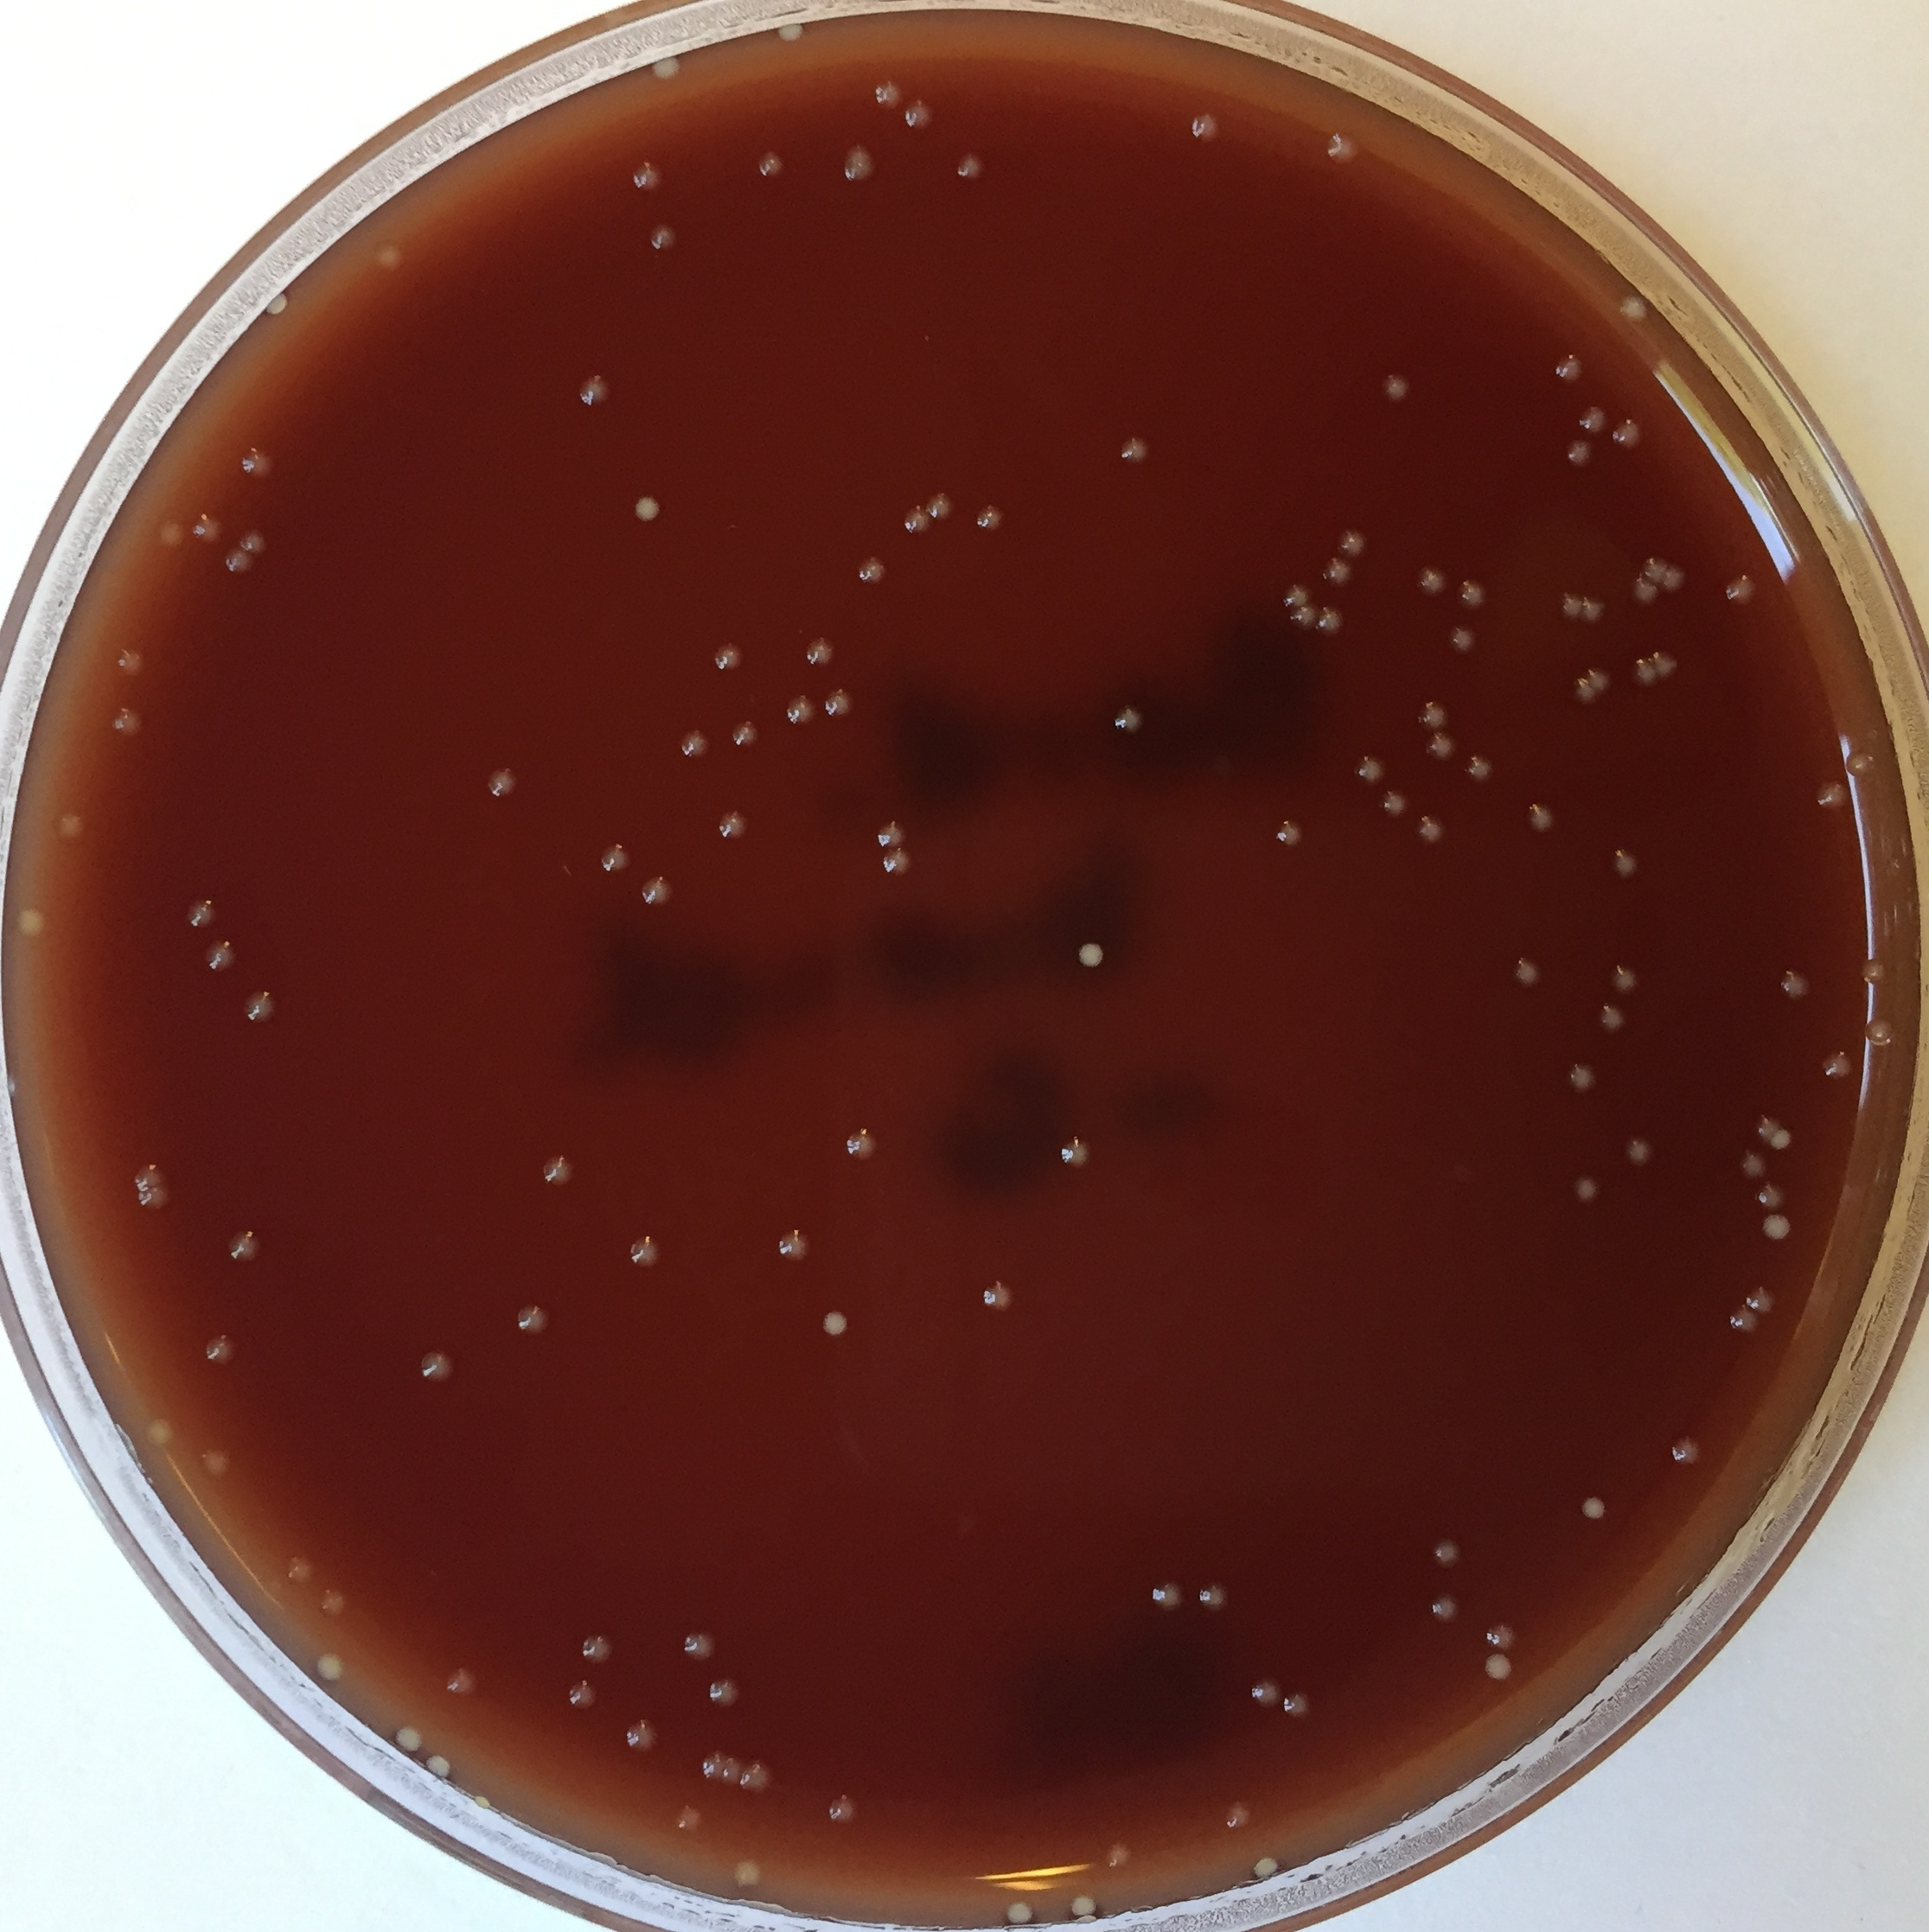sp06: (763, 5, 816, 60), (629, 44, 687, 90), (809, 1298, 862, 1347), (422, 1743, 468, 1800), (387, 1704, 429, 1764), (625, 480, 671, 533), (253, 274, 299, 327), (1067, 929, 1109, 978), (46, 804, 88, 853), (1146, 1575, 1191, 1618), (839, 1121, 883, 1162), (223, 1224, 265, 1264), (140, 1409, 180, 1452), (311, 1648, 352, 1688), (622, 1715, 662, 1755), (1666, 1432, 1706, 1473), (1563, 1058, 1604, 1098), (1480, 1616, 1523, 1655), (839, 143, 878, 185), (576, 369, 615, 411), (238, 443, 277, 486), (774, 1227, 818, 1264), (629, 1227, 662, 1275), (242, 987, 281, 1028), (514, 1300, 553, 1340), (539, 1151, 578, 1192), (680, 1623, 719, 1664), (1275, 1683, 1316, 1722), (1620, 1137, 1660, 1176), (1413, 698, 1454, 736), (110, 703, 152, 740), (200, 936, 240, 973), (1321, 131, 1362, 168), (1507, 954, 1549, 989), (565, 1674, 602, 1713), (1740, 1280, 1779, 1317), (1774, 966, 1812, 1003), (1721, 572, 1759, 609), (851, 553, 892, 588), (14, 906, 51, 943), (705, 1672, 742, 1709), (1607, 846, 1645, 883), (1463, 751, 1500, 788), (417, 1347, 456, 1383), (1426, 1593, 1464, 1628), (1606, 961, 1645, 996), (198, 1332, 238, 1365), (668, 1803, 708, 1837), (1192, 1581, 1233, 1614), (1749, 1180, 1789, 1213), (276, 1554, 318, 1586), (182, 895, 219, 931), (578, 1630, 615, 1665), (726, 1854, 761, 1891), (1814, 777, 1850, 814), (1441, 622, 1479, 657), (627, 157, 664, 192), (111, 645, 147, 682), (482, 765, 518, 802), (715, 809, 753, 844), (783, 692, 820, 728), (1056, 1134, 1092, 1171), (827, 1791, 860, 1830), (1115, 434, 1154, 468), (1410, 563, 1450, 595), (440, 1665, 484, 1694), (1842, 747, 1878, 782), (1376, 371, 1411, 406), (599, 841, 634, 876), (638, 872, 673, 908), (1245, 1676, 1282, 1709), (1818, 1047, 1855, 1081), (1523, 800, 1560, 834), (1625, 576, 1662, 609), (1314, 555, 1351, 588), (1454, 577, 1491, 611), (371, 242, 408, 275), (154, 517, 187, 555), (980, 1279, 1017, 1312), (950, 148, 989, 180), (641, 224, 684, 253), (1219, 1798, 1252, 1833), (1857, 955, 1890, 991), (1618, 293, 1653, 327), (1560, 436, 1595, 470), (899, 99, 934, 132), (136, 1180, 173, 1211), (1484, 1648, 1516, 1685), (1625, 657, 1662, 689), (219, 546, 256, 577), (185, 514, 224, 544), (1332, 526, 1365, 560), (1003, 1895, 1039, 1927), (1102, 1837, 1134, 1872), (1735, 1148, 1770, 1180), (1860, 1012, 1892, 1047), (1277, 579, 1312, 611), (881, 849, 913, 885), (710, 643, 745, 675), (802, 636, 837, 668), (1353, 752, 1388, 784), (1593, 1003, 1630, 1033), (233, 525, 270, 555), (1726, 1305, 1758, 1339), (1611, 417, 1643, 450), (873, 78, 906, 109), (754, 147, 786, 180), (1111, 701, 1145, 733), (1749, 1114, 1784, 1144), (876, 819, 906, 855), (129, 1162, 166, 1190), (313, 1588, 350, 1616), (740, 1764, 772, 1796), (1553, 353, 1585, 385), (1431, 1536, 1461, 1570), (1424, 731, 1457, 761), (1574, 595, 1607, 625), (677, 729, 710, 759), (728, 719, 761, 749), (1272, 819, 1305, 849), (1579, 1491, 1607, 1526), (825, 687, 853, 722), (927, 487, 956, 523), (1249, 1853, 1281, 1883), (1648, 646, 1678, 678), (1189, 111, 1219, 143), (201, 1448, 233, 1478), (1759, 1213, 1793, 1241), (901, 505, 931, 535), (973, 503, 1003, 533), (698, 1748, 726, 1780), (1569, 1176, 1600, 1204), (1583, 666, 1615, 694), (1312, 606, 1344, 634), (1380, 788, 1408, 818), (1415, 814, 1445, 842), (1638, 556, 1668, 585), (717, 1752, 744, 1784), (1065, 1891, 1097, 1918), (1567, 678, 1599, 705), (1556, 592, 1581, 625), (1577, 406, 1606, 434), (1659, 563, 1685, 593), (1286, 602, 1312, 632), (1766, 1127, 1795, 1153)
